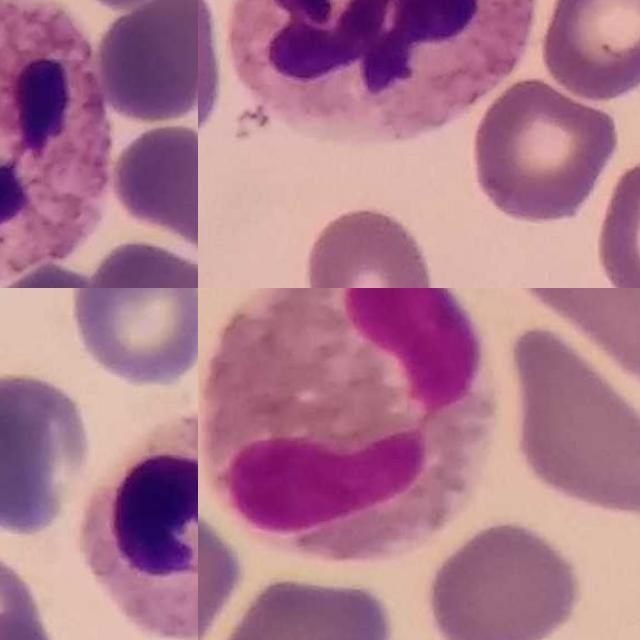Eosinophil: (201, 288, 496, 567)
Neutrophil: (233, 0, 535, 138), (0, 0, 113, 285), (81, 417, 198, 640)
